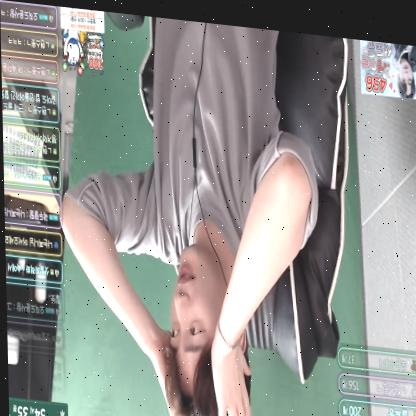donation: (59, 6, 106, 78), (360, 31, 416, 89)
streamer: (55, 5, 322, 416)
